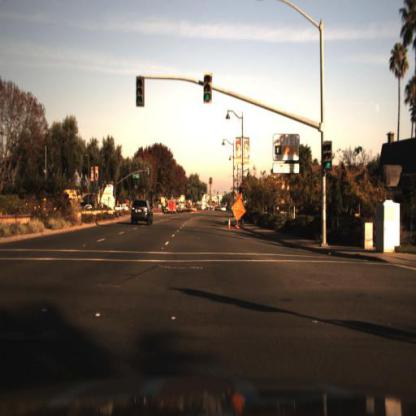car: (129, 194, 156, 227), (167, 199, 184, 216), (113, 202, 131, 215)
trafficLight-Green: (135, 75, 146, 110), (323, 153, 334, 176), (205, 78, 213, 107)
